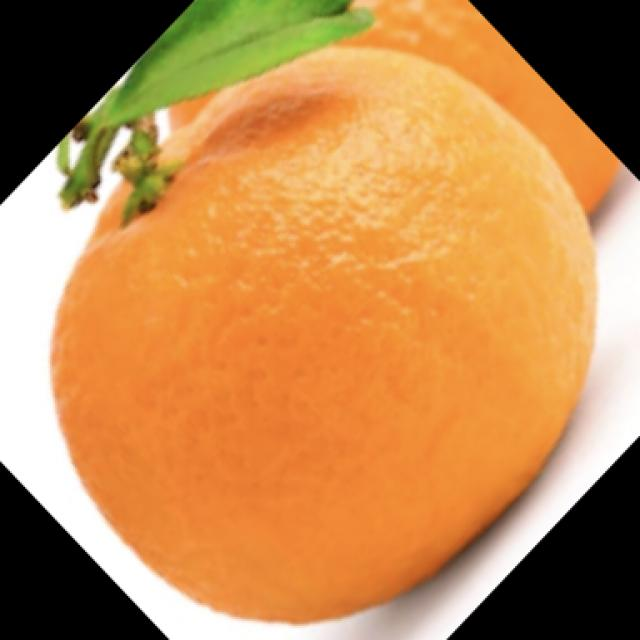fresh: (40, 8, 612, 630)
